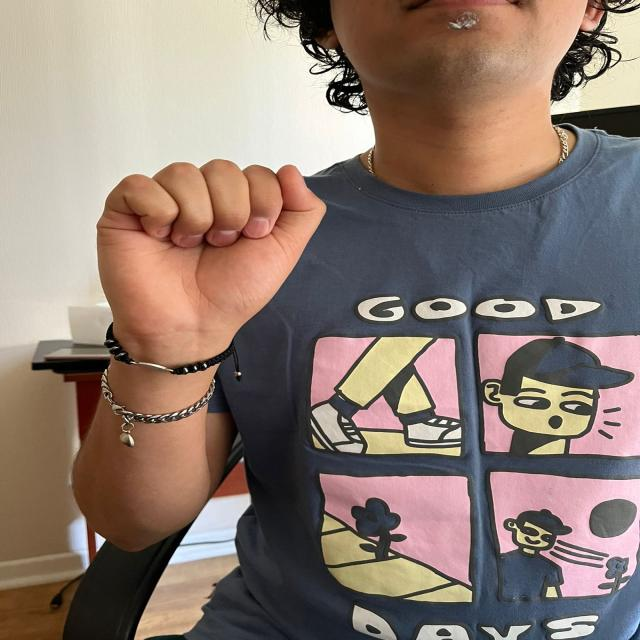A: (93, 153, 324, 336)
